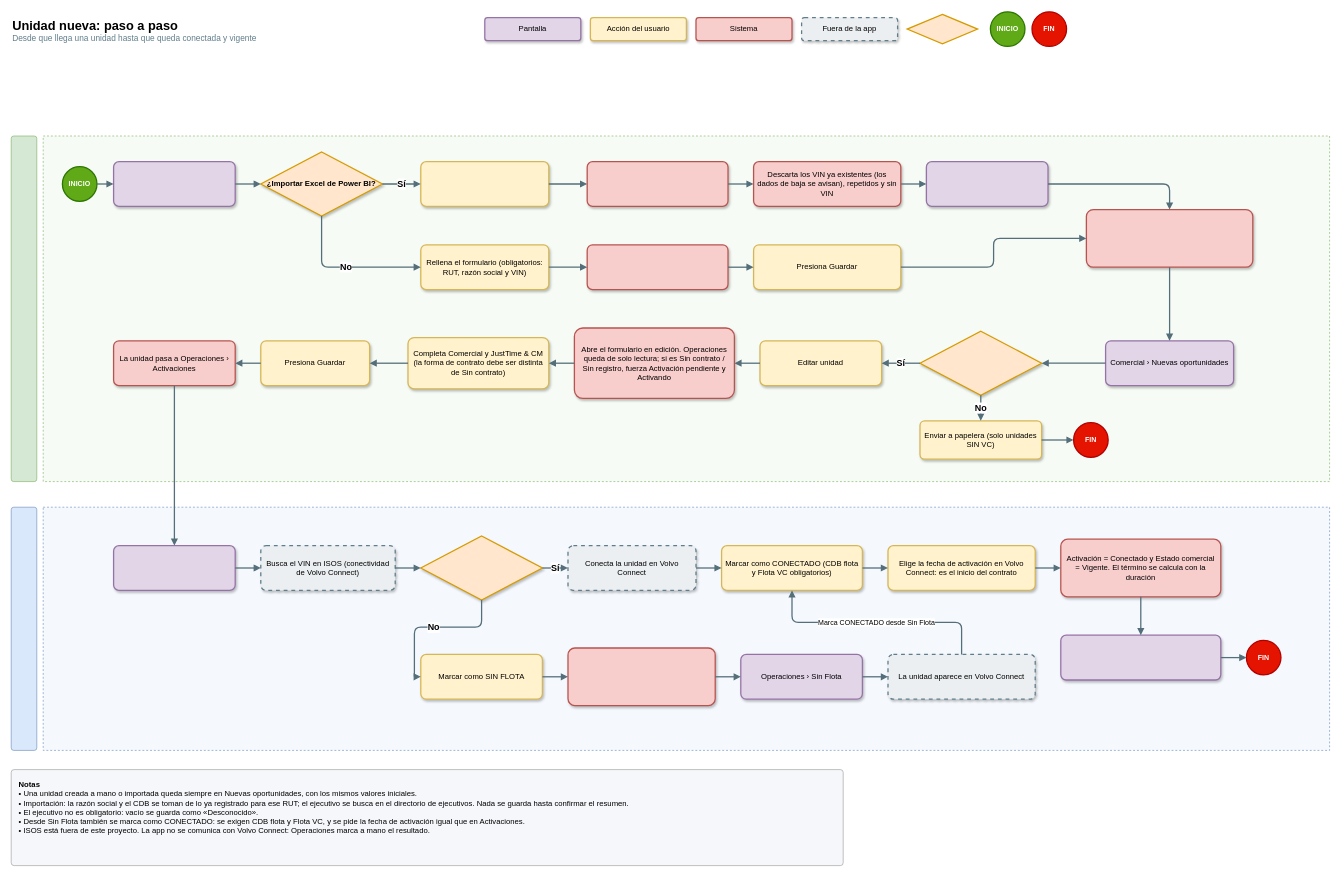
Image size: 1341x877. Some labels were removed from this diagram. Each missing label, with the centre of its shape:
"Activación = Sin flota. Si Flota VC estaba vacía, queda «NO EXISTE EN VC»" goes at (x=641, y=677).
"Comercial" goes at (x=24, y=308).
"Comercial › Renovar contratos" goes at (x=1141, y=658).
"Comercial › Unidad nueva" goes at (x=174, y=184).
"Decisión" goes at (x=942, y=28).
"El chasis (últimos 7 del VIN) y el modelo se completan al ingresar el VIN" goes at (x=658, y=267).
"Elige el Excel de Notas de Venta (hoja Export)" goes at (x=485, y=184).
"Guarda con valores iniciales: Revisar · No aplica · Sin contrato · Sin registro" goes at (x=1170, y=239).
"Lee RUT, razón social, ejecutivo, VIN, modelo y CDB de cada fila" goes at (x=658, y=184).
"Operaciones" goes at (x=24, y=628).
"Operaciones › Activaciones" goes at (x=174, y=568).
"Resumen y confirmación" goes at (x=987, y=184).
"¿El cliente toma el servicio?" goes at (x=981, y=364).
"¿Existe en Volvo Connect?" goes at (x=482, y=568).
